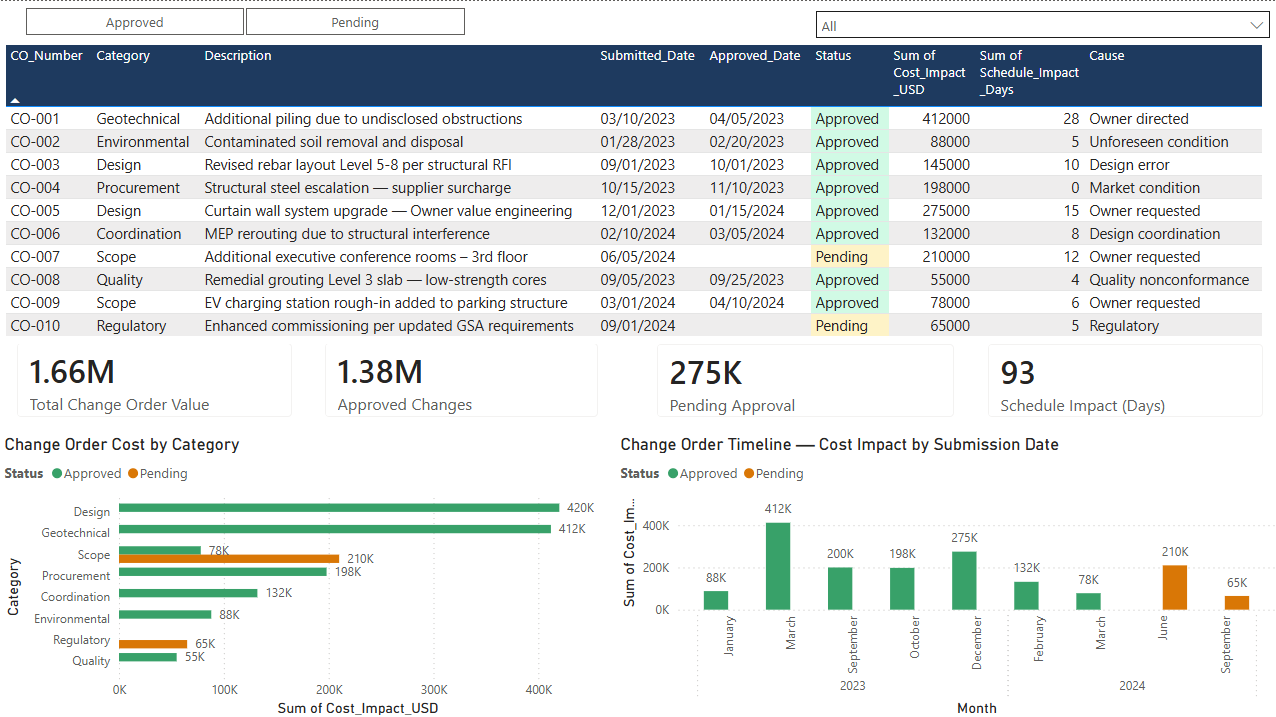

What the dashboard file says about the page in this screenshot:
{"tool":"powerbi","page":{"name":"Change Order Log","canvas":[1280,720],"ordinal":5},"visuals":[{"type":"cardVisual","fields":{"Data":["Measures_log.Total_CO_Cost"]},"box":[0,324.5,309.4,108.9],"z":1000},{"type":"cardVisual","fields":{"Data":["Measures_log.Approved_CO_Cost"]},"box":[308.4,324.5,306.4,108.9],"z":2000},{"type":"cardVisual","fields":{"Data":["Measures_log.Pending_CO_Cost"]},"box":[640,325.5,330.6,107.8],"z":3000},{"type":"cardVisual","fields":{"Data":["Measures_log.Total_Schedule_Impact"]},"box":[970.6,325.5,309.4,107.8],"z":4000},{"type":"clusteredBarChart","title":"Change Order Cost by Category","fields":{"Category":["change_orders.Category"],"Y":["Sum(change_orders.Cost_Impact_USD)"],"Series":["change_orders.Status"]},"box":[0,433.4,615.8,286.2],"z":5000},{"type":"clusteredColumnChart","title":"Change Order Timeline — Cost Impact by Submission Date","fields":{"Y":["Sum(change_orders.Cost_Impact_USD)"],"Series":["change_orders.Status"],"Category":["change_orders.Submitted_Date.Variation.Date Hierarchy.Year","change_orders.Submitted_Date.Variation.Date Hierarchy.Month"]},"box":[615.8,433.4,664.2,286.2],"z":6000},{"type":"slicer","fields":{"Values":["change_orders.Status"]},"box":[0,0,488.9,38.9],"z":7500},{"type":"tableEx","fields":{"Values":["change_orders.CO_Number","change_orders.Category","change_orders.Description","change_orders.Submitted_Date","change_orders.Approved_Date","change_orders.Status","Sum(change_orders.Cost_Impact_USD)","Sum(change_orders.Schedule_Impact_Days)","change_orders.Cause"]},"box":[0,38.9,1280,304.4],"z":8000},{"type":"slicer","fields":{"Values":["change_orders.Category"]},"box":[805.6,0,474.4,38.9],"z":8001}]}

Visuals, with their boxes in screenshot pixels (x1, y1, x2, y2), scaled from the page's 1280x720 canvas onto the 1276x717 screenshot:
cardVisual - Measures_log.Total_CO_Cost: (0, 323, 308, 432)
cardVisual - Measures_log.Approved_CO_Cost: (307, 323, 613, 432)
cardVisual - Measures_log.Pending_CO_Cost: (638, 324, 968, 431)
cardVisual - Measures_log.Total_Schedule_Impact: (968, 324, 1275, 431)
"Change Order Cost by Category" clusteredBarChart: (0, 432, 614, 716)
"Change Order Timeline — Cost Impact by Submission Date" clusteredColumnChart: (614, 432, 1275, 716)
slicer - change_orders.Status: (0, 0, 487, 39)
tableEx - change_orders.CO_Number x change_orders.Category: (0, 39, 1275, 342)
slicer - change_orders.Category: (803, 0, 1275, 39)
